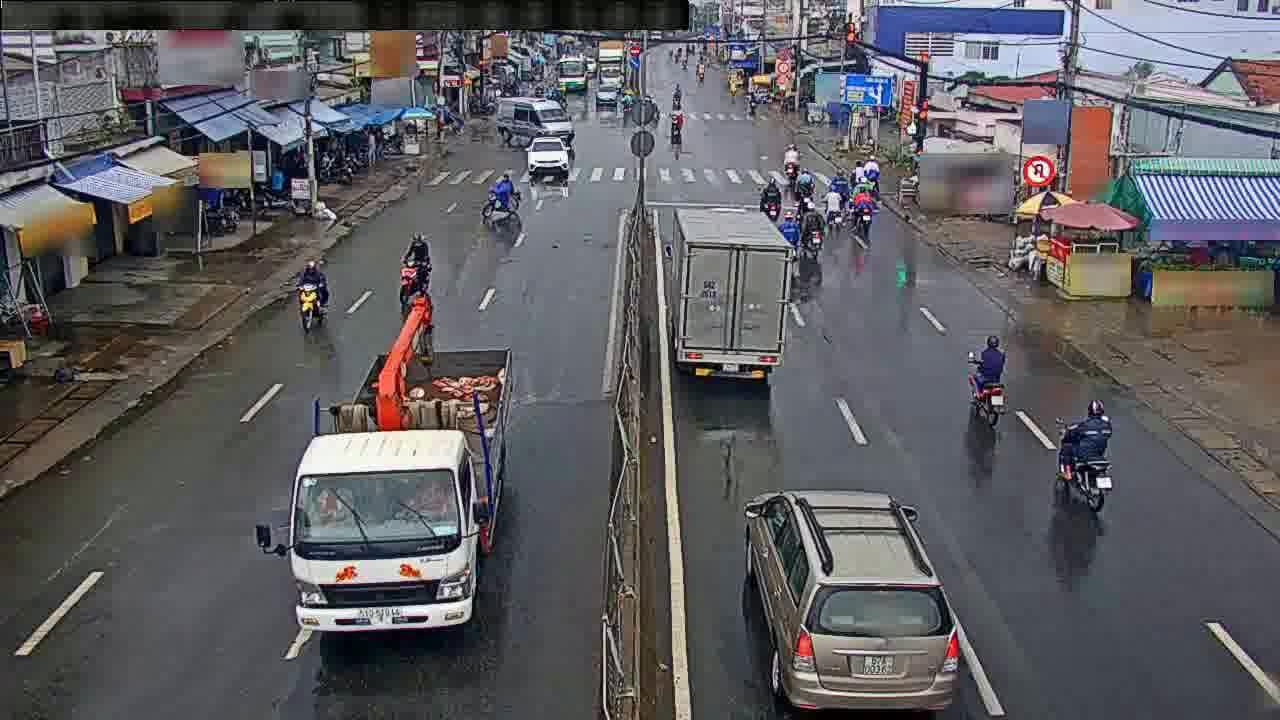8: (298, 344, 498, 627), (673, 209, 785, 376)
container: (736, 485, 962, 715), (522, 134, 571, 183), (592, 82, 622, 111)
motorbike: (1054, 397, 1117, 513), (969, 337, 1010, 421), (396, 231, 434, 300), (291, 263, 330, 327), (477, 174, 527, 216), (794, 199, 827, 252), (848, 184, 880, 230), (778, 209, 804, 260), (757, 176, 782, 219), (825, 165, 848, 202), (861, 151, 882, 189), (792, 168, 815, 202), (782, 141, 802, 176), (847, 160, 867, 191), (667, 106, 682, 136)
